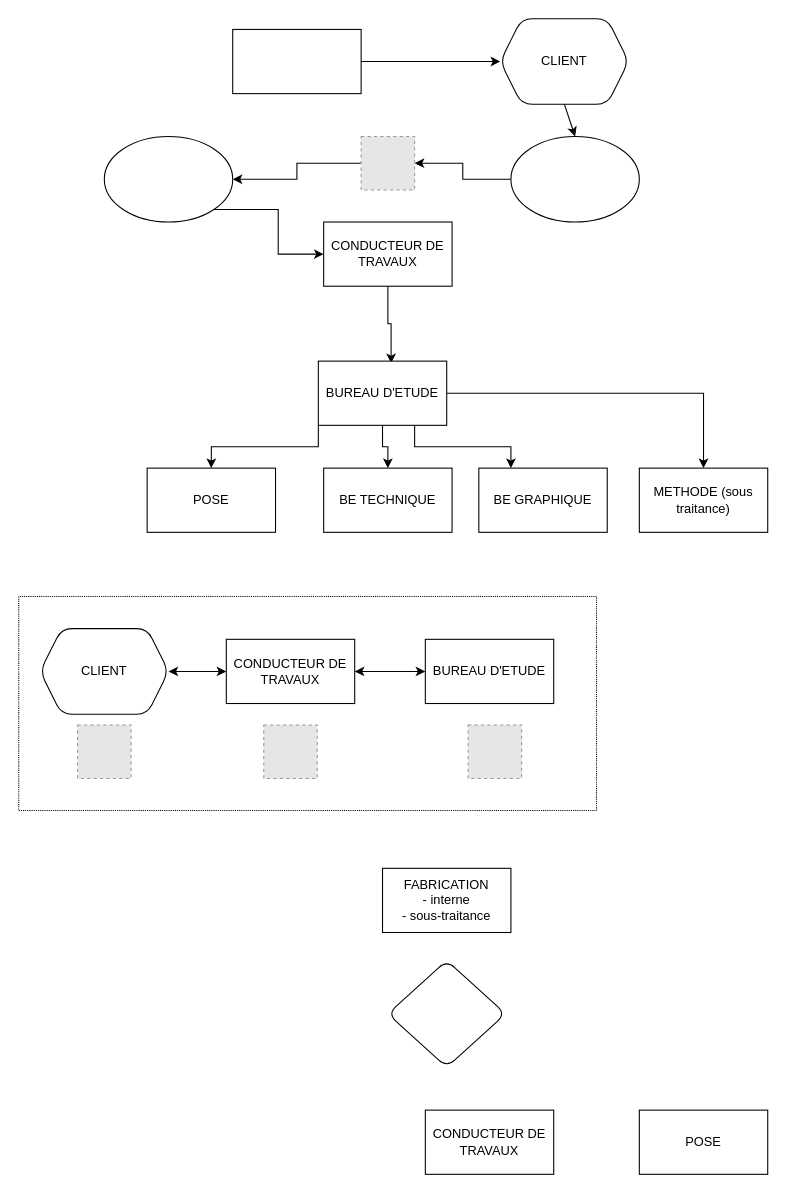
The diagram is 786 pixels wide and 1193 high, and some of its shapes have lost their labels. Grey dashed boxes stand in for pictures. Each missing label, with the box of its shape:
COMMANDE: (103, 135, 233, 222)
COMMERCIAL / CHIFFREUR: (232, 28, 361, 94)
DEVIS: (510, 135, 639, 222)
OUVRAGE TERMINE: (387, 959, 506, 1067)
